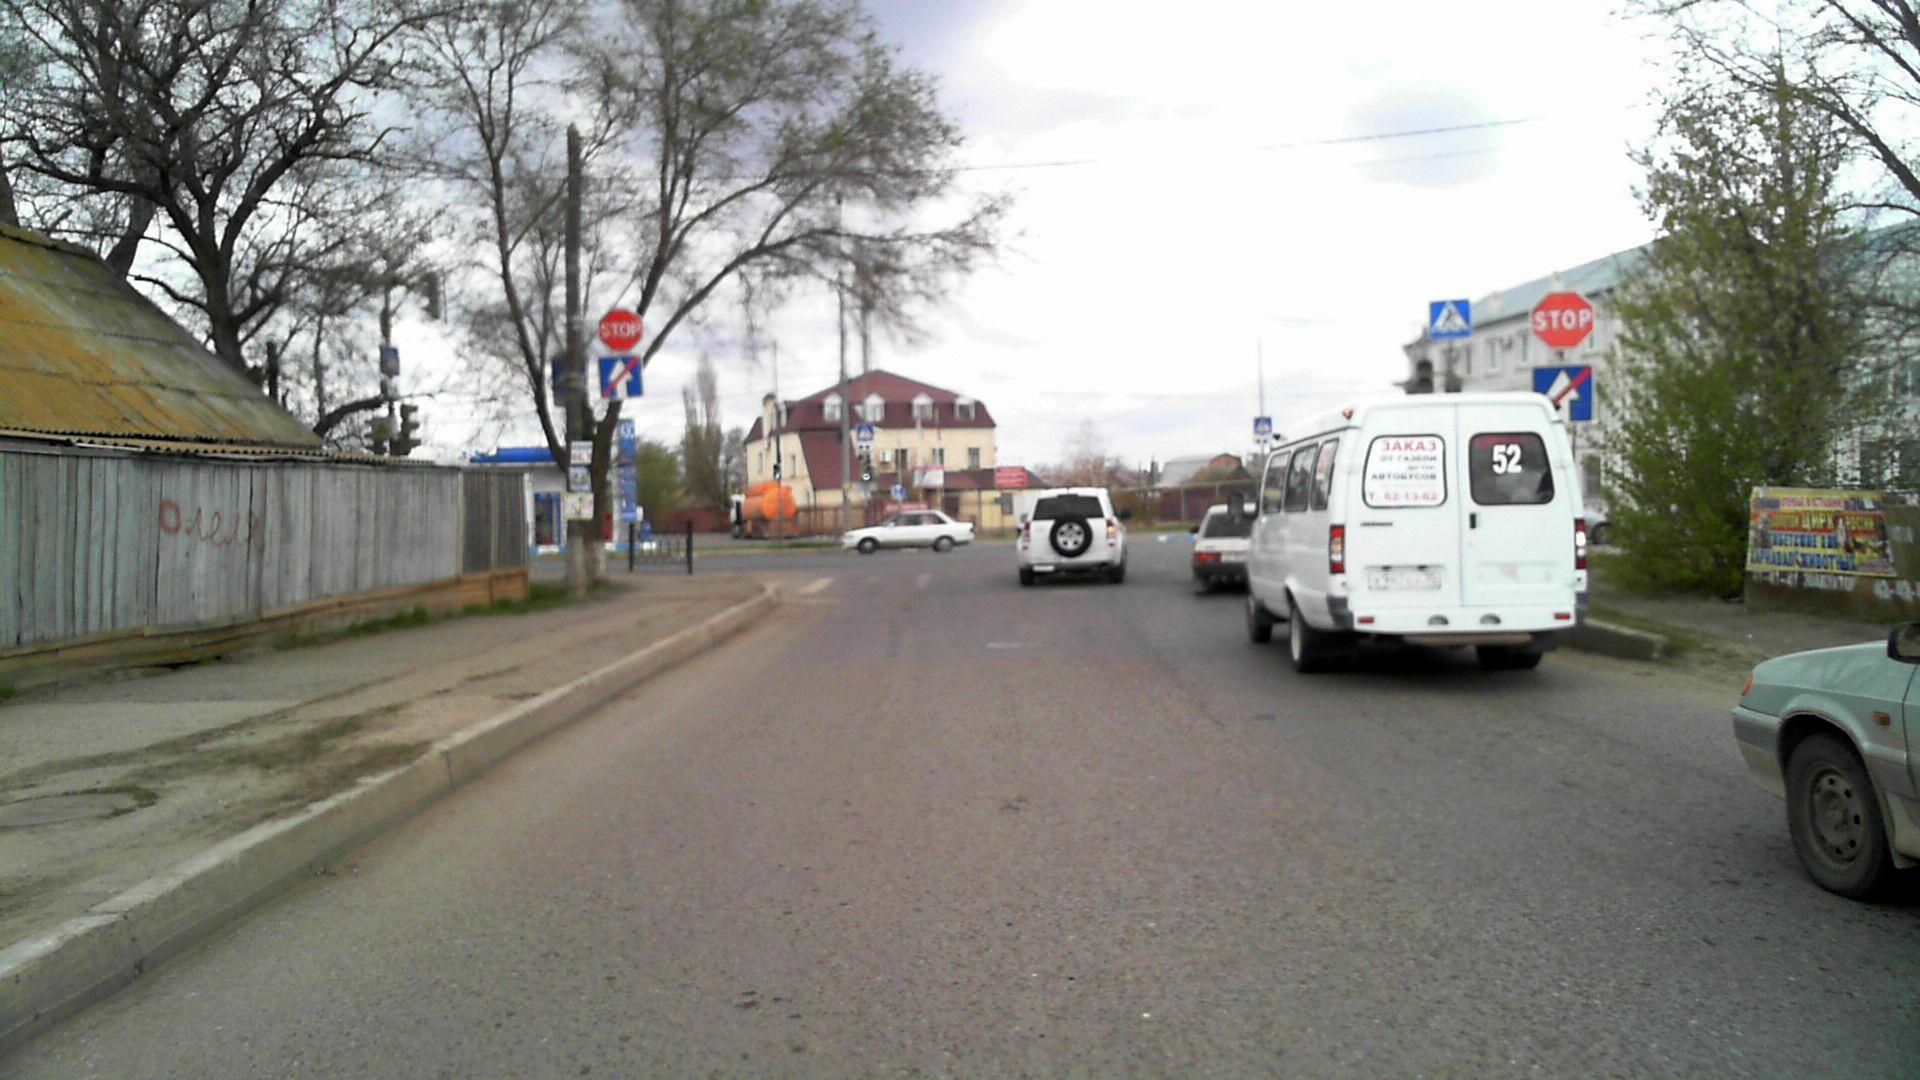2_5: (1528, 287, 1594, 351), (600, 307, 644, 353)
5_19_1: (1425, 295, 1470, 342)
5_19_2: (1253, 413, 1273, 434), (857, 422, 876, 442)
5_6: (1534, 365, 1592, 422), (599, 356, 642, 398)
